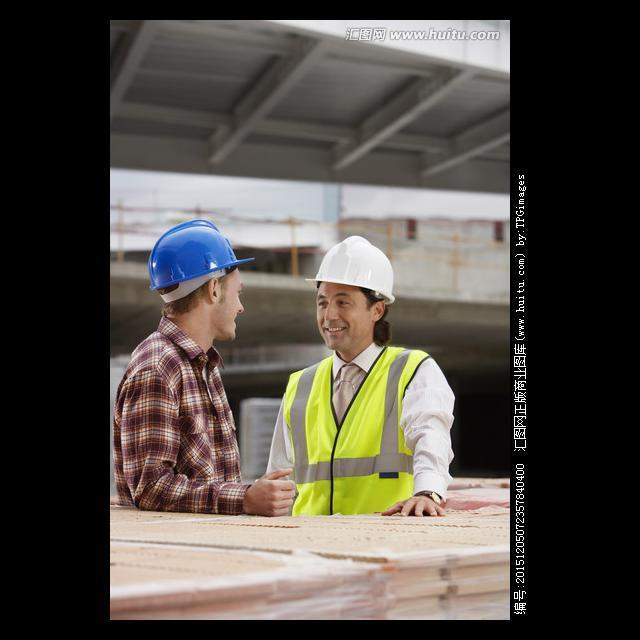helmet: (302, 226, 406, 310), (133, 218, 254, 288)
safety_vest: (262, 354, 428, 512)
